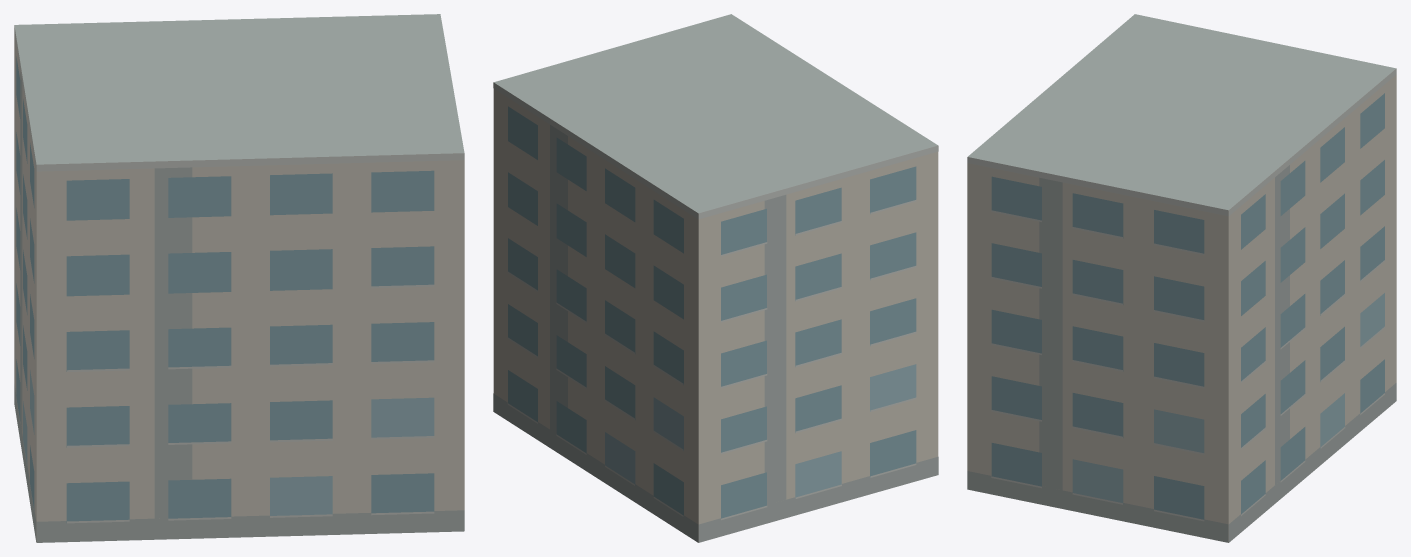
File: survey-upis-33042828.glb
The picture shows the model from 3 angles, left to right: view 1: azimuth 30°, elevation 25°; view 2: azimuth 150°, elevation 25°; view 3: azimuth 270°, elevation 25°; orthographic projection. The views are drawn at different scales.
Parts seen in each view (by area): view 1: survey-upis-33042828.tmp; view 2: survey-upis-33042828.tmp; view 3: survey-upis-33042828.tmp.
Boxes of the visible parts, left/top/right/bottom form: survey-upis-33042828.tmp: left=14, top=14, right=464, bottom=542; survey-upis-33042828.tmp: left=493, top=14, right=938, bottom=542; survey-upis-33042828.tmp: left=967, top=14, right=1396, bottom=542.
Bounding box in the file's own units: 16.78 × 13.25 × 15.5.
